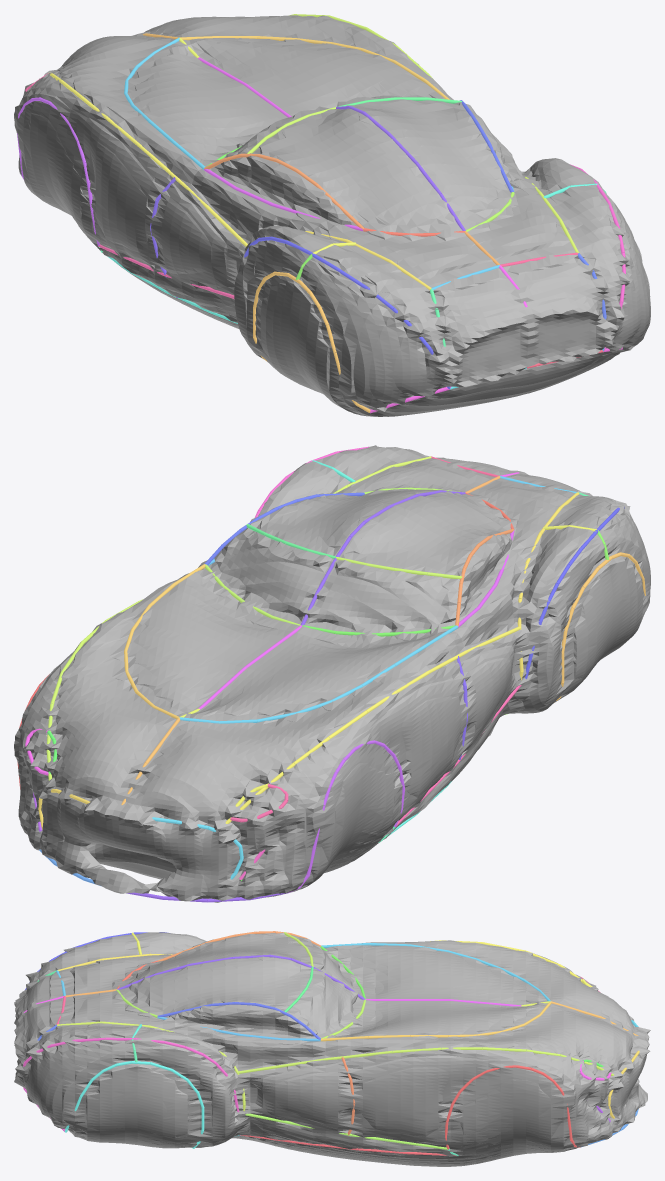
File: ils_roadster.gltf
3 views of the same model, one above another, from view 1: azimuth 30°, elevation 25°; view 2: azimuth 150°, elevation 25°; view 3: azimuth 270°, elevation 25° (orthographic). The views are drawn at different scales.
Bounding box in the file's own units: 0.4083 × 0.3018 × 0.9121.
